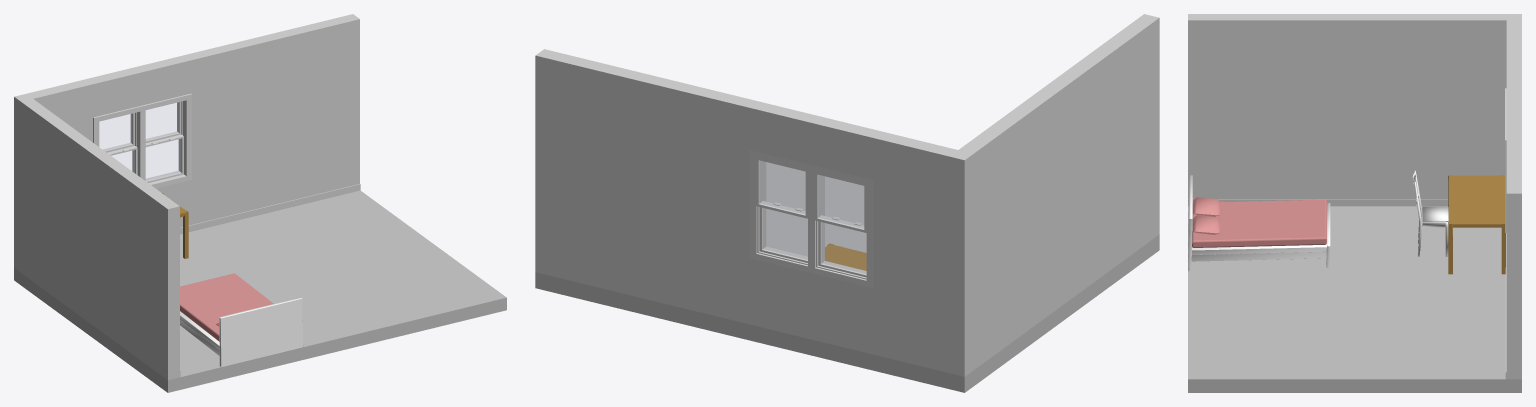
File: L14_W18_furniture2_privacy1.glb
3 views of the same model, side by side, from view 1: azimuth 30°, elevation 25°; view 2: azimuth 150°, elevation 25°; view 3: azimuth 270°, elevation 25° (orthographic). The views are drawn at different scales.
Bounding box in the file's own units: 224 × 116 × 176.
